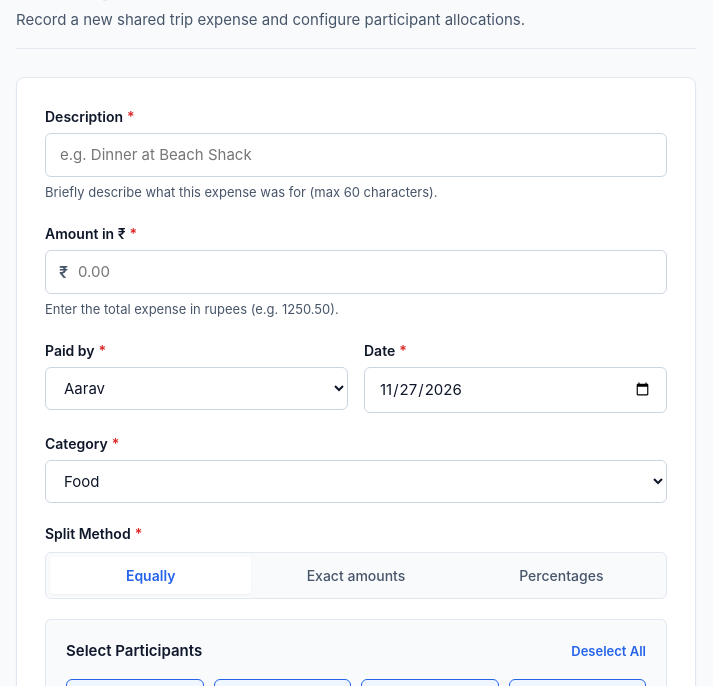
AddExpensePage Integration › displays multiple validation errors simultaneously when saving an empty form
// Clear default date and deselect all members to trigger all errors
Clear the date field labelled "Date *" at (516, 390), box 364,366 -> 667,413
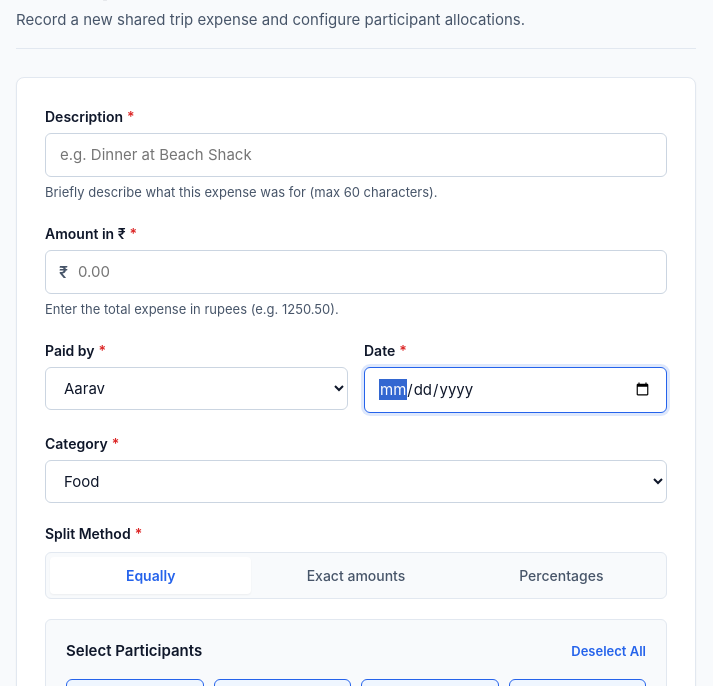
Click the button "Deselect All".
click(609, 651)  # box 571,642 -> 646,661
(page scrolled)
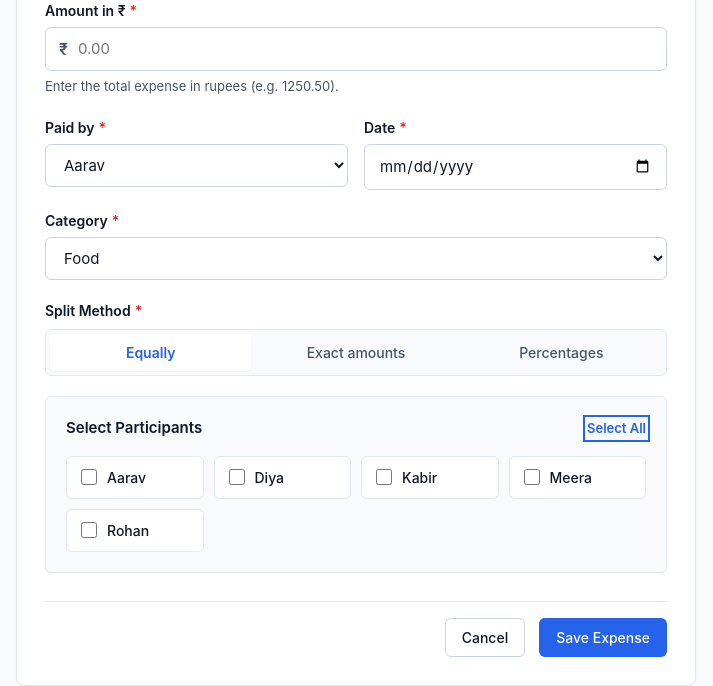
// Click Save
Click the button "Save Expense".
click(603, 637)  # box 539,618 -> 667,656
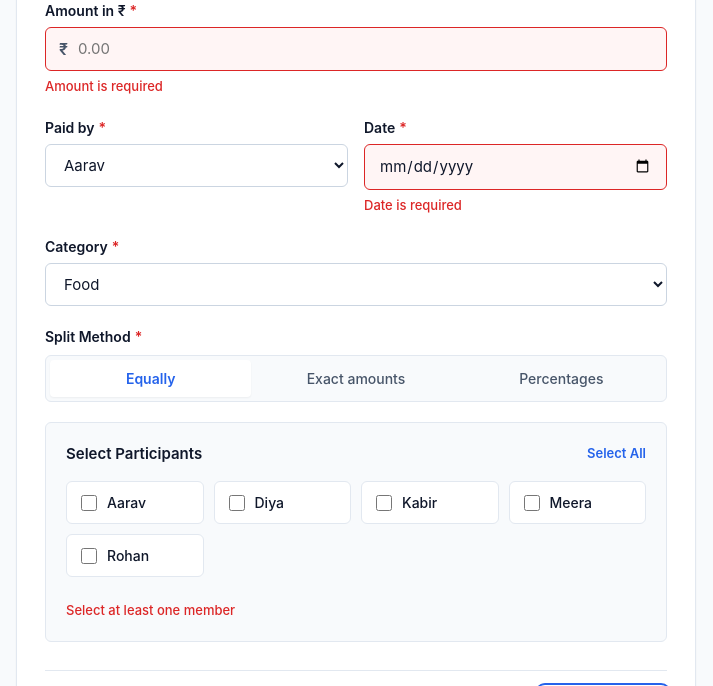
Now the text "Amount is required" is shown, box 45,78 -> 163,94
Now the text "Date is required" is shown, box 364,197 -> 462,213
Now the text "Select at least one member" is shown, box 66,602 -> 235,618
